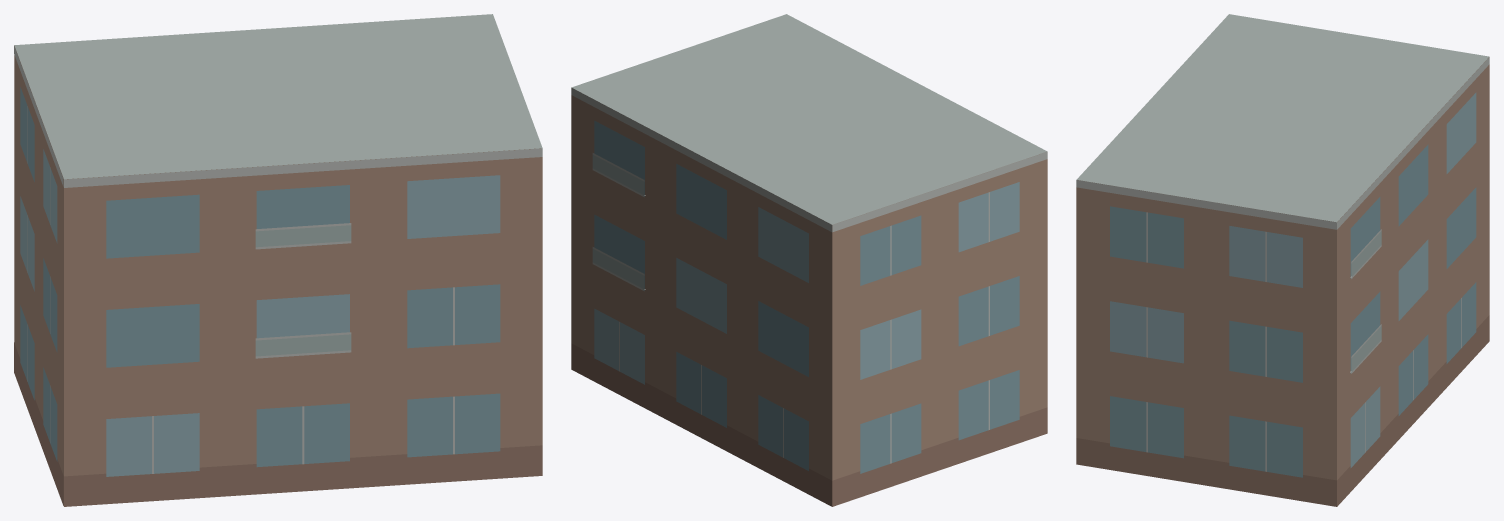
The model's file is survey-upis-33032335.glb.
The picture shows the model from 3 angles, left to right: view 1: azimuth 30°, elevation 25°; view 2: azimuth 150°, elevation 25°; view 3: azimuth 270°, elevation 25°; orthographic projection. The views are drawn at different scales.
Parts seen in each view (by area): view 1: survey-upis-33032335.tmp; view 2: survey-upis-33032335.tmp; view 3: survey-upis-33032335.tmp.
Part boxes in pixels (box(x1,y1,x2,y2)): survey-upis-33032335.tmp: box(14, 14, 542, 506); survey-upis-33032335.tmp: box(571, 14, 1047, 506); survey-upis-33032335.tmp: box(1076, 14, 1489, 506).
Size of the model in its own units: 14.37 by 9.15 by 12.05.
